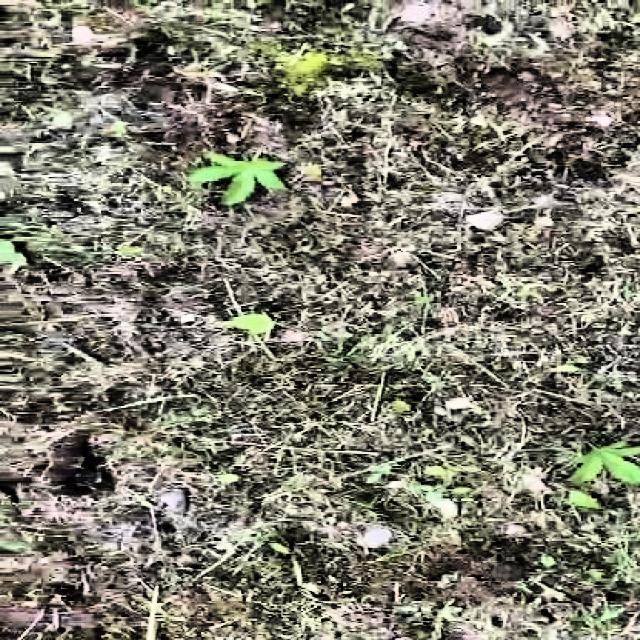Weeds: (188, 148, 292, 206), (567, 438, 640, 489)
